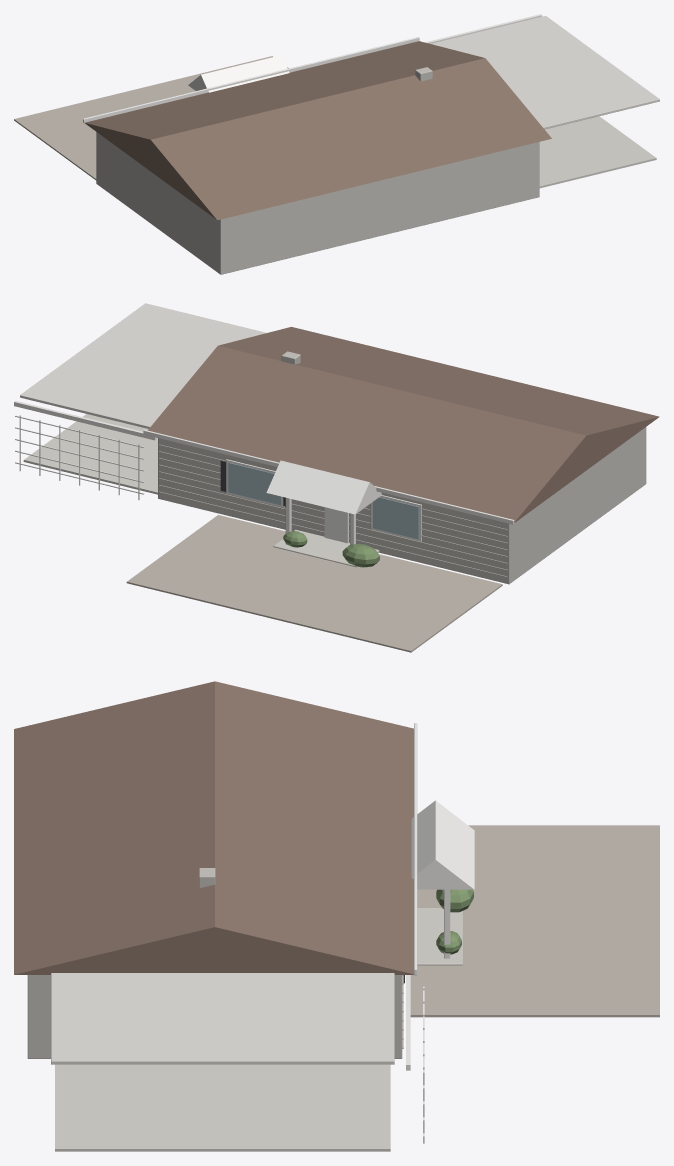
Rendered from ranch-7620.glb.
3 renders of one model, top to bottom at view 1: azimuth 30°, elevation 25°; view 2: azimuth 150°, elevation 25°; view 3: azimuth 270°, elevation 25°, orthographic. The views are drawn at different scales.
Visible parts, largest first — view 1: roof, body, carport-roof, gravel, carport-slab, entry-gable, fascia, carport-beam; view 2: roof, gravel, body, carport-roof, carport-slab, entry-gable, fascia, win-l, win-r, porch-slab, carport-beam, bush-l (+4 smaller); view 3: roof, gravel, carport-roof, carport-slab, entry-gable, body, porch-slab, fascia.
Boxes of the visible parts, box(x1,y1,x2,y2) form: roof: box(84, 41, 551, 220); body: box(96, 132, 539, 274); carport-roof: box(431, 16, 659, 129); gravel: box(14, 56, 288, 180); carport-slab: box(539, 116, 656, 188); entry-gable: box(188, 55, 289, 92); fascia: box(83, 37, 419, 122); carport-beam: box(425, 14, 542, 43); roof: box(148, 327, 659, 522); gravel: box(126, 515, 502, 652); body: box(158, 427, 646, 584); carport-roof: box(20, 303, 266, 428); carport-slab: box(23, 414, 157, 494); entry-gable: box(266, 460, 381, 514); fascia: box(143, 430, 514, 524); win-l: box(373, 497, 418, 539); win-r: box(228, 462, 281, 505); porch-slab: box(273, 529, 379, 567); carport-beam: box(14, 401, 156, 440); bush-l: box(342, 543, 379, 567); roof: box(14, 681, 413, 974); gravel: box(410, 825, 659, 1017); carport-roof: box(51, 973, 394, 1064); carport-slab: box(55, 1064, 390, 1151); entry-gable: box(411, 800, 474, 889); body: box(27, 975, 402, 1058); porch-slab: box(417, 908, 462, 965); fascia: box(414, 723, 417, 975).
Bounding box in the file's own units: 20.28 × 4.13 × 16.55.
